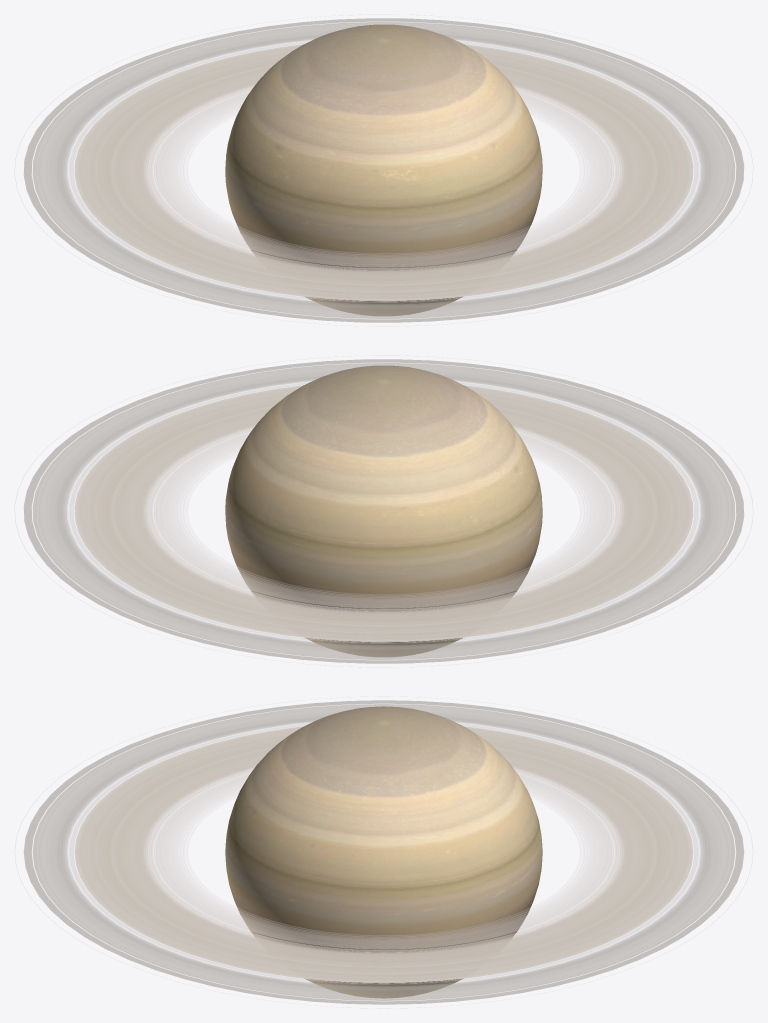
File: saturn.glb
3 renders of one model, top to bottom at view 1: azimuth 30°, elevation 25°; view 2: azimuth 150°, elevation 25°; view 3: azimuth 270°, elevation 25°, orthographic.
Visible parts, largest first — view 1: RingsTop, Saturn.001; view 2: RingsTop, Saturn.001; view 3: RingsTop, Saturn.001.
Part boxes in pixels (<box>): RingsTop: <box>23,18,744,322</box>; Saturn.001: <box>225,24,542,315</box>; RingsTop: <box>23,359,744,663</box>; Saturn.001: <box>225,365,542,656</box>; RingsTop: <box>15,700,752,1004</box>; Saturn.001: <box>225,706,542,998</box>.
Size of the model in its own units: 2331 by 902 by 2331.
Materials: 2 (2 with a texture image).
